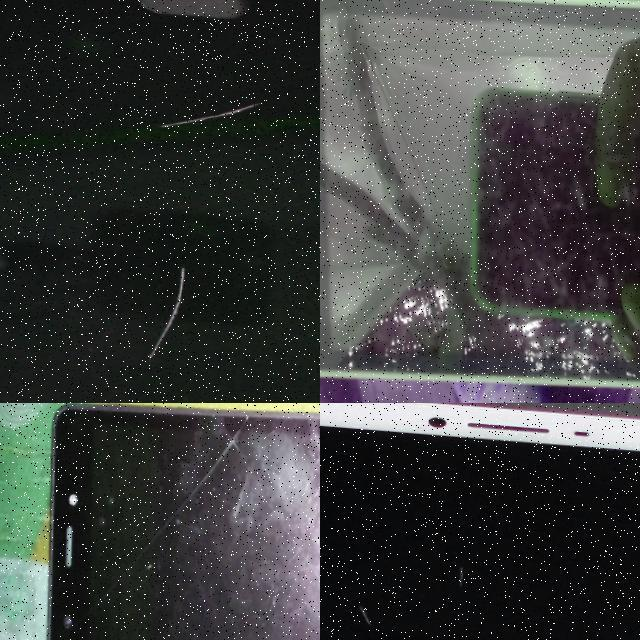scratch: (131, 73, 288, 151), (124, 248, 208, 371), (439, 551, 480, 592), (353, 597, 380, 631)
screen crack: (85, 403, 320, 640), (329, 260, 640, 399), (320, 4, 465, 223)
